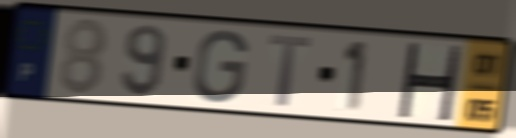1: (340, 38, 368, 114)
8: (55, 15, 112, 98)
9: (118, 23, 170, 99)
G: (190, 27, 252, 106)
H: (394, 39, 465, 124)
T: (266, 31, 315, 110)
